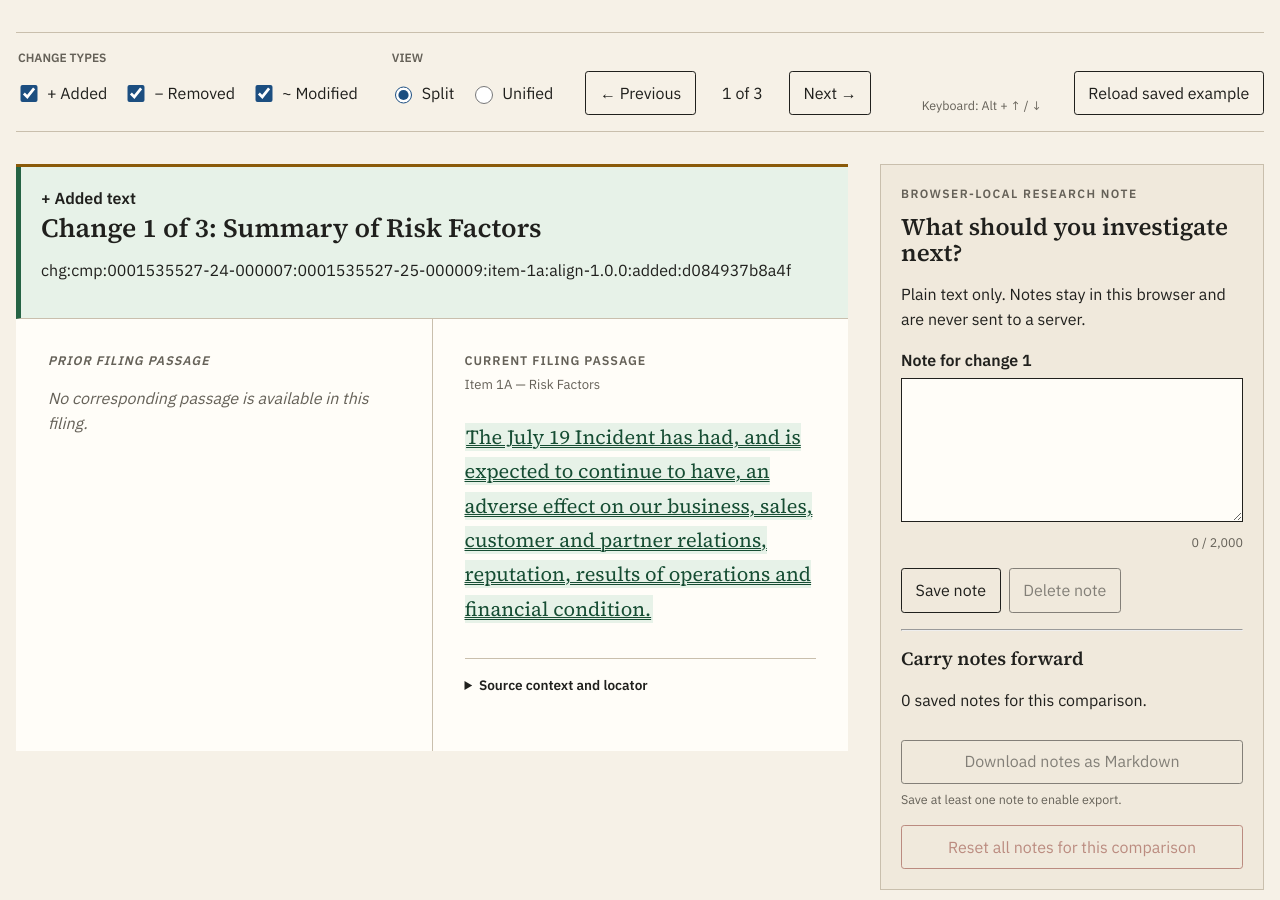
P-01/P-05/P-11/QA-04 comparison workspace › P-11 reset-all clears the visible draft and saved note state
(page scrolled)
Type "Clear this note everywhere" into the text box labelled "Note for change 1". click: (1072, 450)
box: [901, 378, 1243, 522]
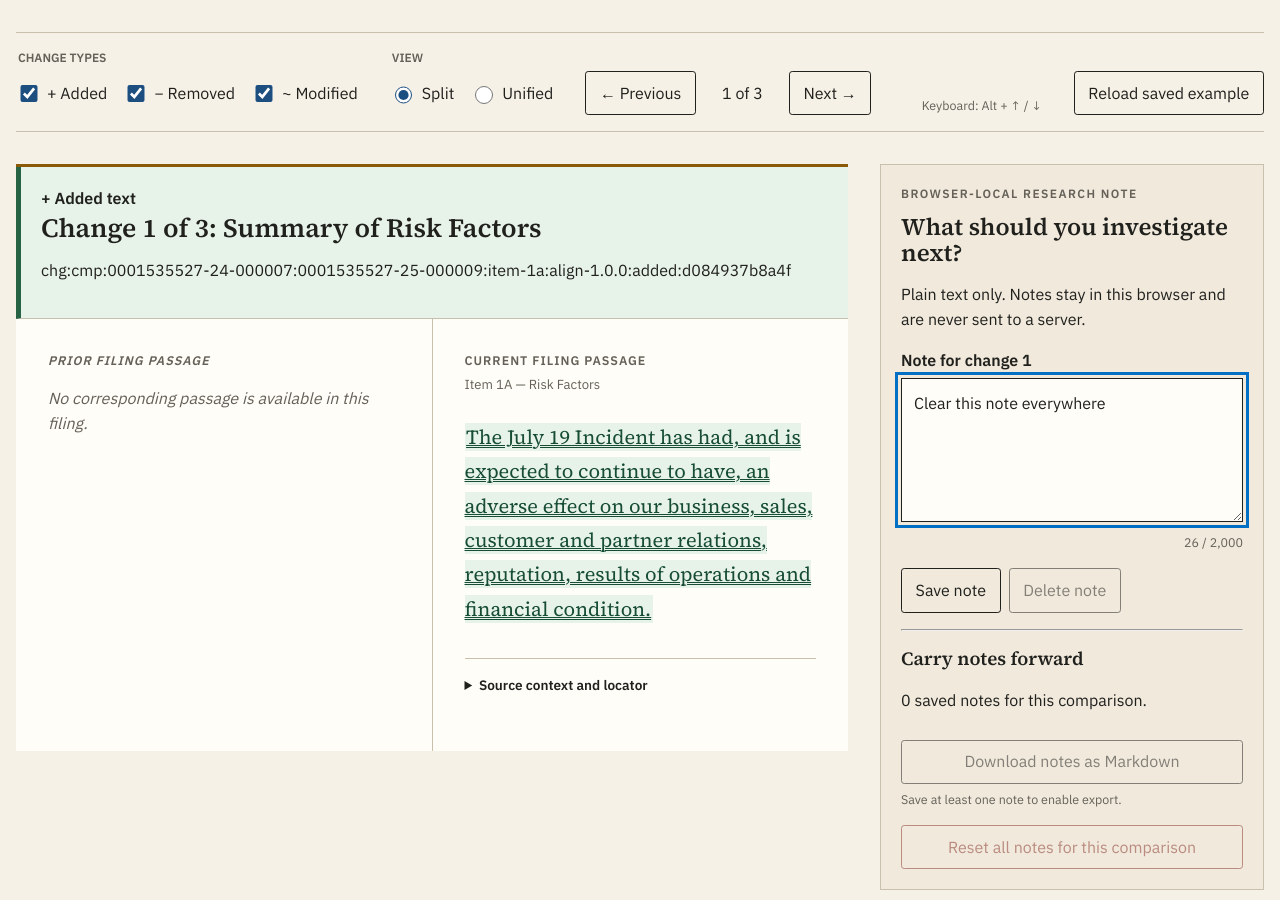
Click the button "Save note". click: (951, 591)
box: [901, 568, 1001, 613]
(page scrolled)
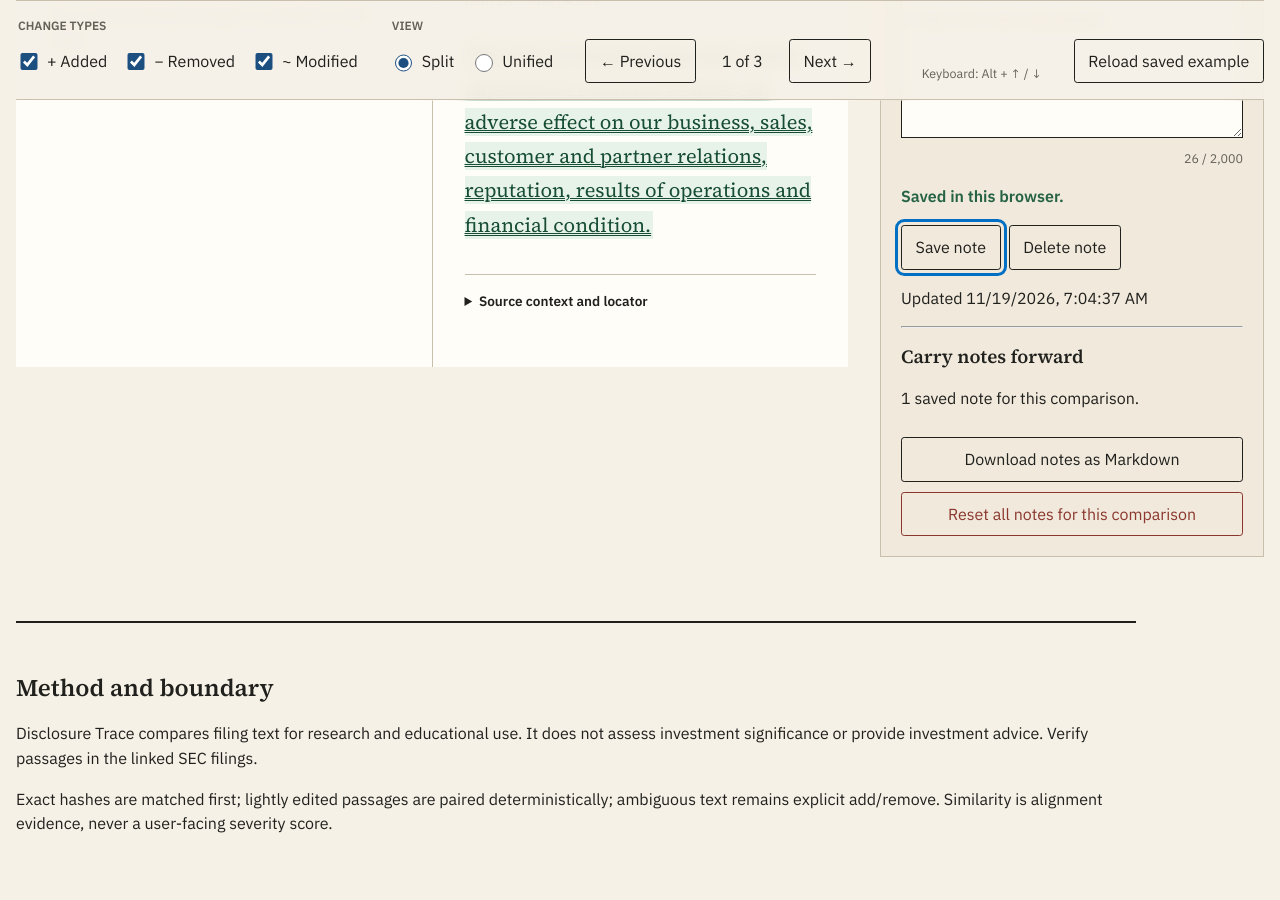
Click the button "Reset all notes for this comparison". click: (1072, 514)
box: [901, 492, 1243, 536]
(page scrolled)
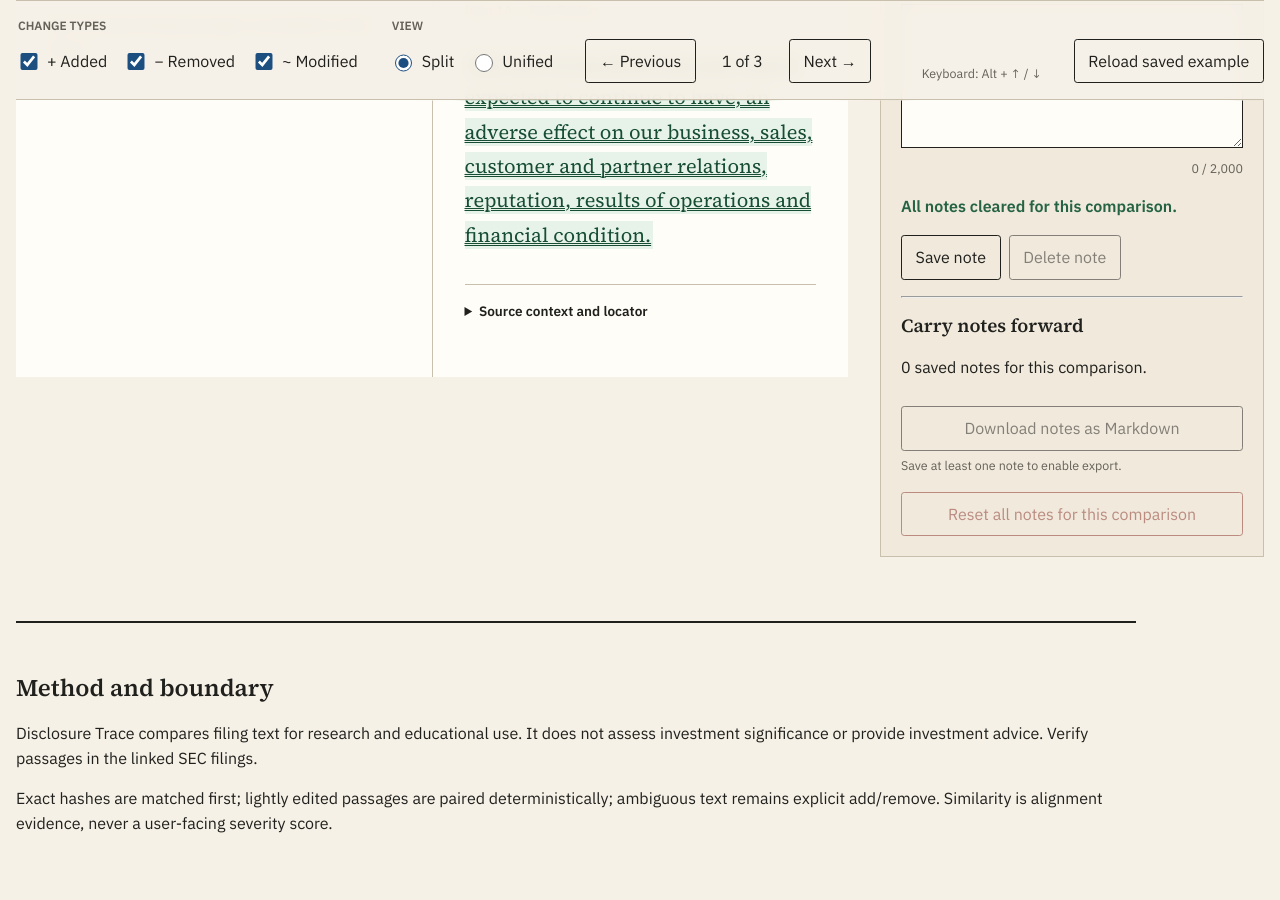
Now the text box labelled "Note for change 1" is empty, box [901, 4, 1243, 148]
Now the text "All notes cleared for this comparison." is shown, box [901, 196, 1177, 216]
Now the button "Download notes as Markdown" is disabled, box [901, 406, 1243, 451]
